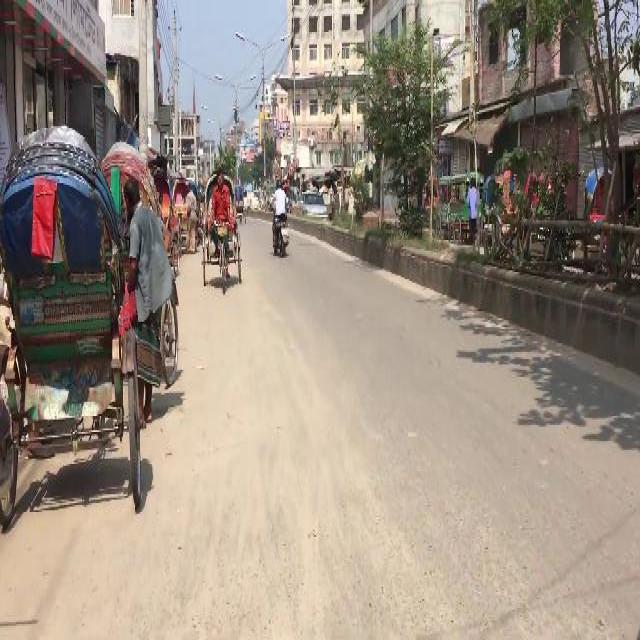bike: (268, 180, 291, 256)
vehicle: (5, 126, 142, 512), (203, 167, 244, 295), (157, 176, 183, 274), (175, 181, 192, 252), (302, 191, 328, 220), (236, 184, 247, 223)
